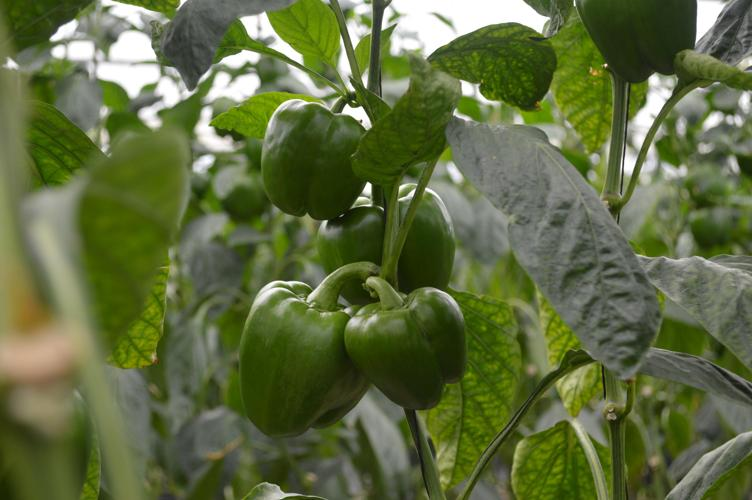BellPepper: (218, 280, 376, 443), (348, 283, 487, 414), (309, 178, 451, 302), (248, 93, 378, 220)
